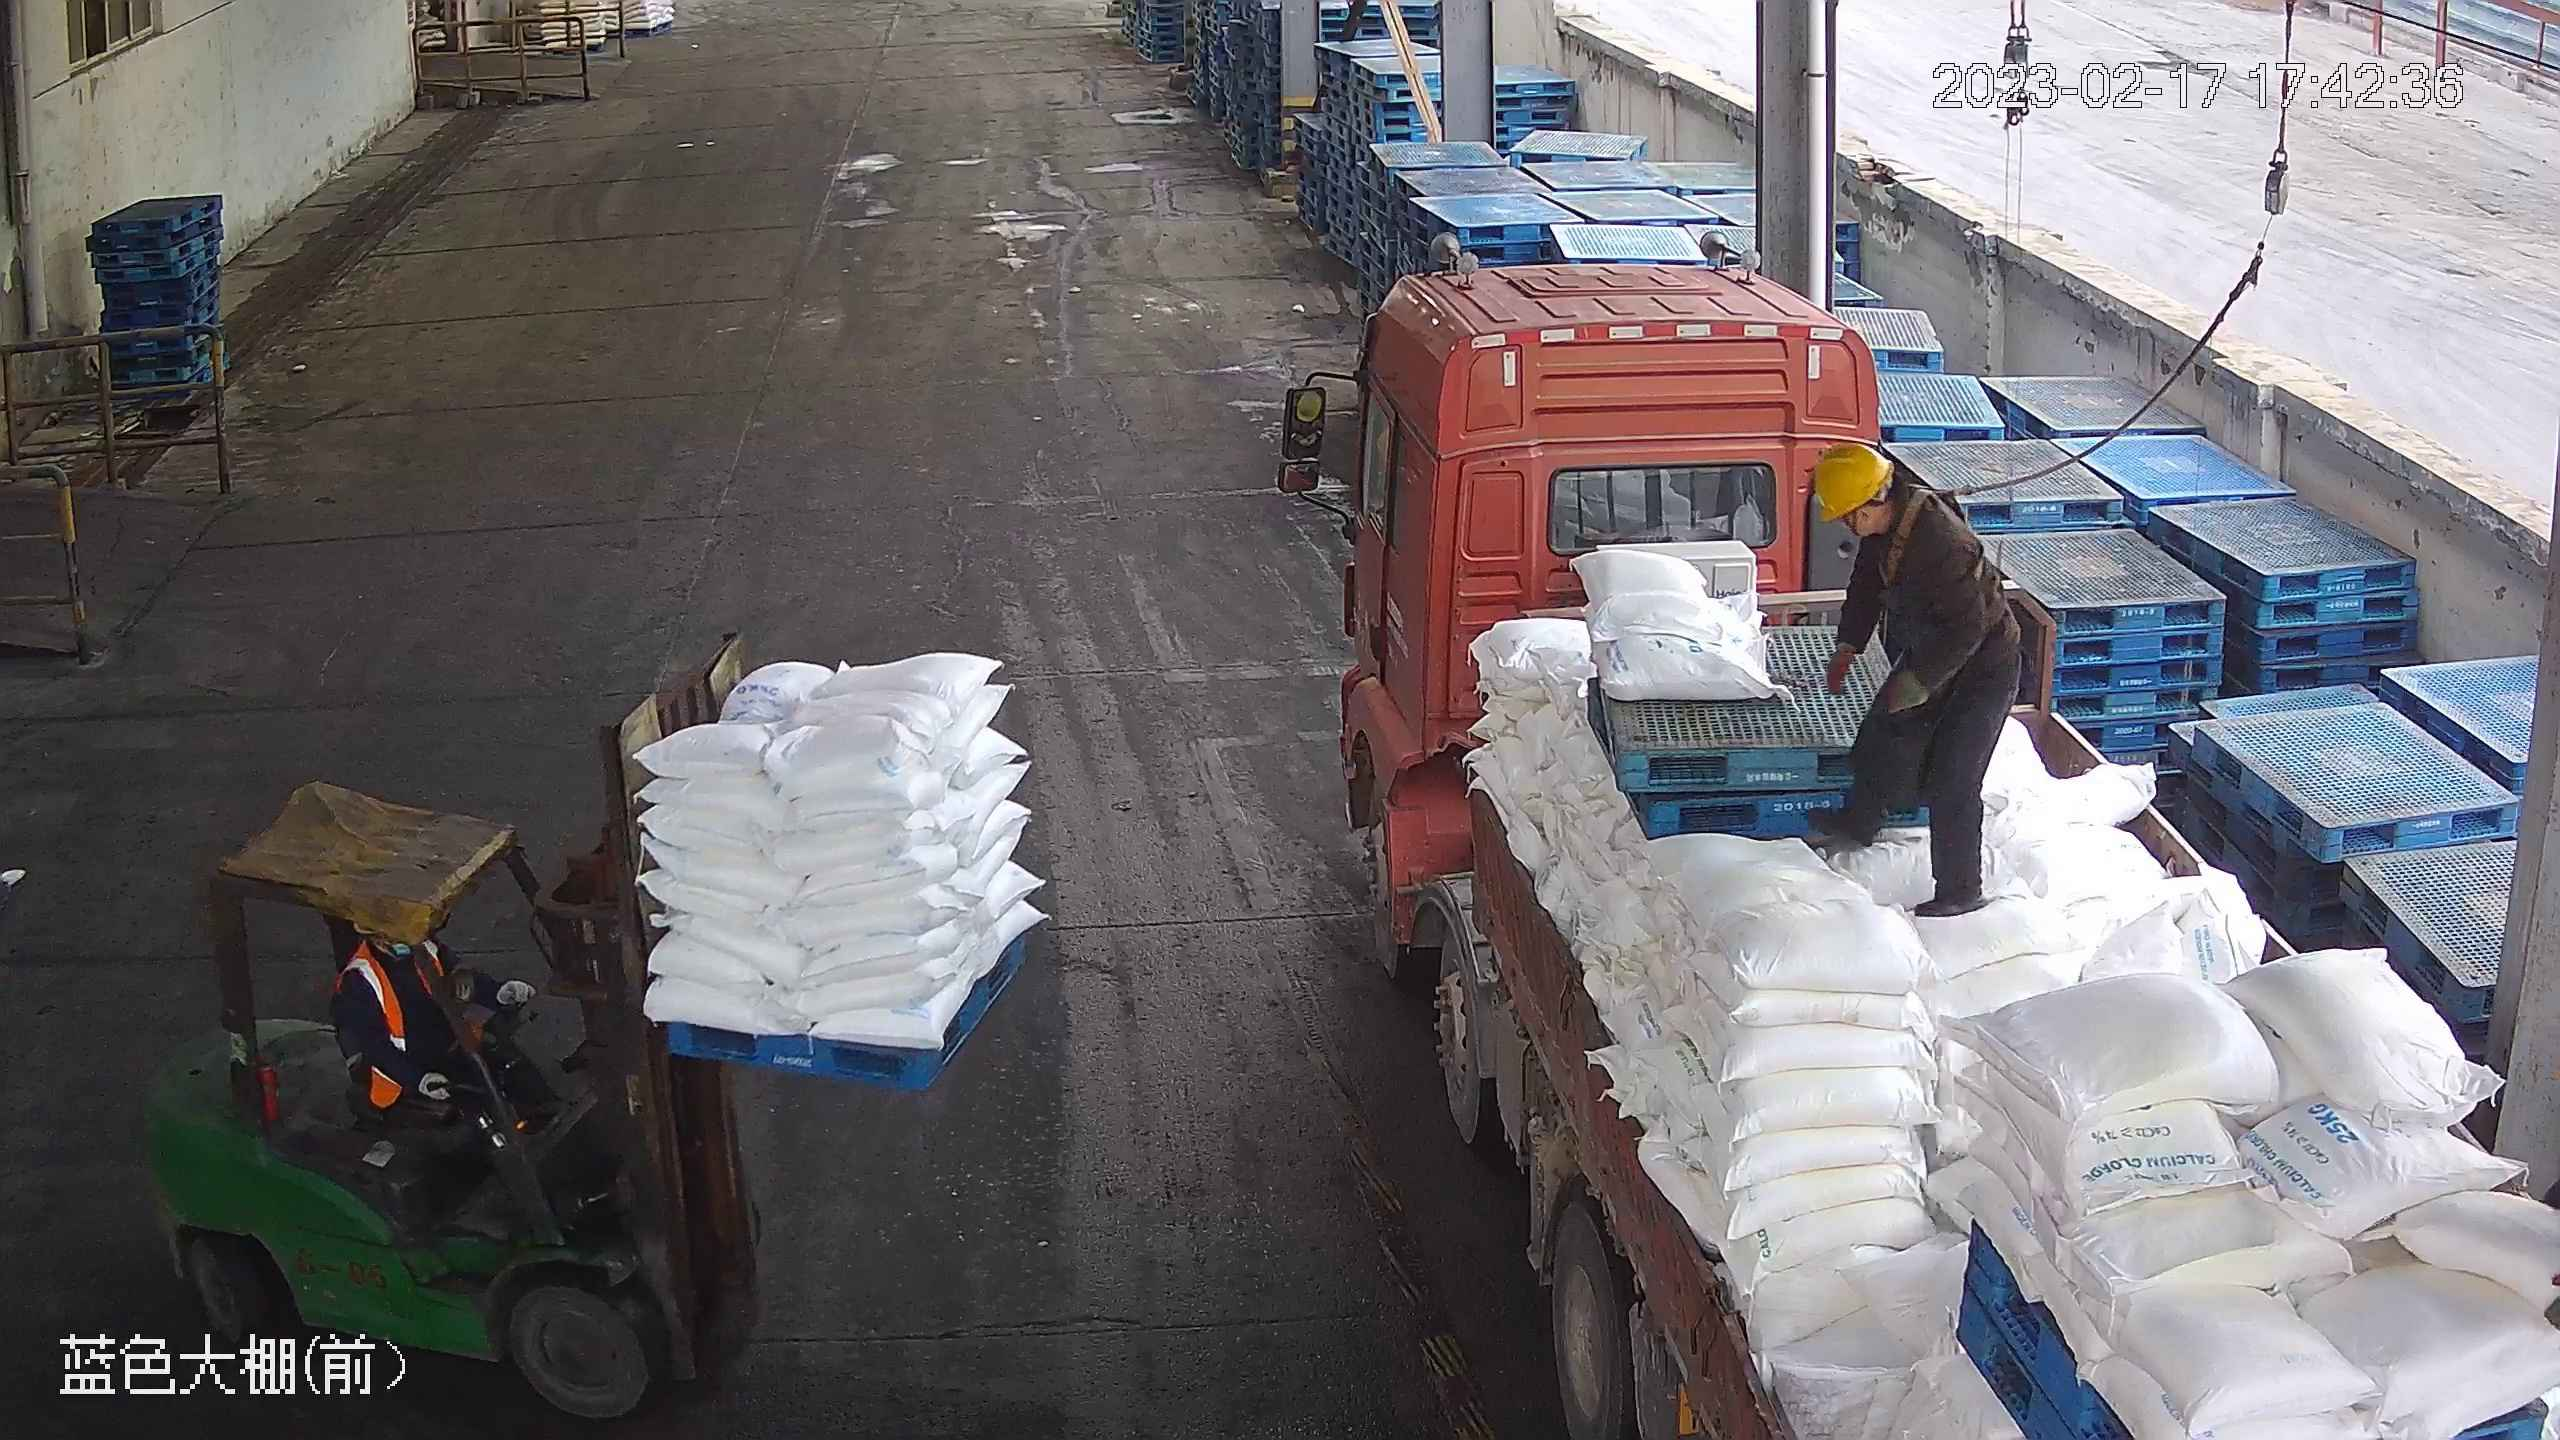belt: (1878, 476, 2002, 585)
head: (1812, 439, 1981, 592)
helmet: (1812, 441, 1897, 522)
people: (1791, 442, 2024, 918), (322, 920, 551, 1188)
truck: (1274, 254, 2560, 1440)
